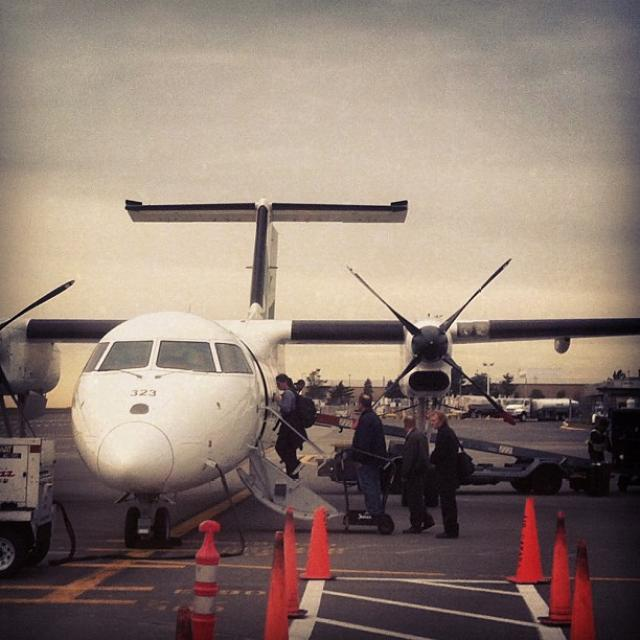Vehicle: (0, 436, 60, 572), (505, 398, 580, 421)
